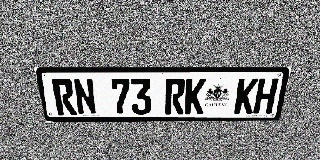3: (131, 78, 151, 115)
7: (109, 79, 131, 115)
H: (253, 78, 279, 114)
K: (234, 78, 259, 114), (184, 78, 206, 114)
N: (73, 79, 97, 115)
R: (51, 79, 77, 115), (165, 78, 185, 114)
